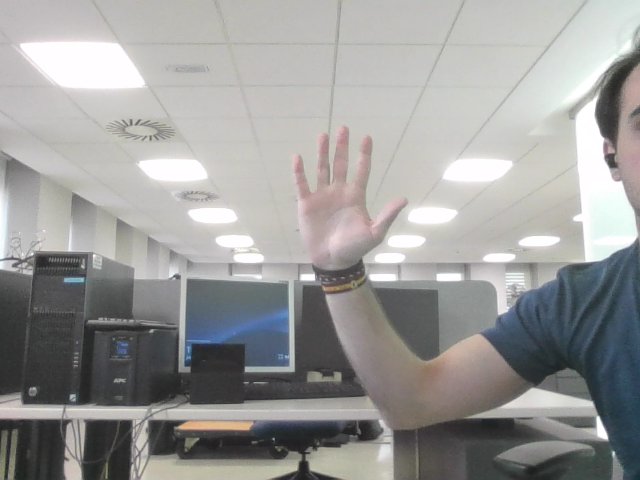Mano Abierta: (301, 137, 395, 245)
